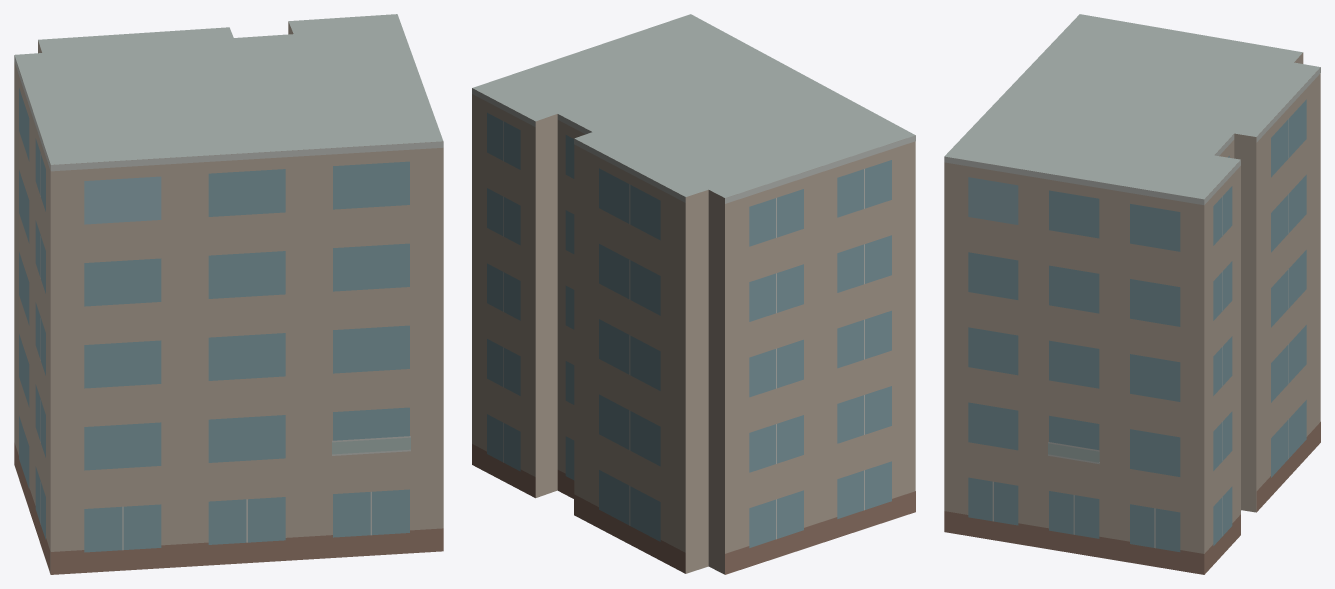
The model's file is survey-upis-32663372.glb.
3 renders of one model, left to right at view 1: azimuth 30°, elevation 25°; view 2: azimuth 150°, elevation 25°; view 3: azimuth 270°, elevation 25°, orthographic. The views are drawn at different scales.
Visible parts, largest first — view 1: survey-upis-32663372.tmp; view 2: survey-upis-32663372.tmp; view 3: survey-upis-32663372.tmp.
Part boxes in pixels (x1,y1,x2,y2): survey-upis-32663372.tmp: (14,14,443,574); survey-upis-32663372.tmp: (472,14,915,574); survey-upis-32663372.tmp: (944,14,1320,574).
Size of the model in its own units: 16.53 by 15.6 by 14.19.
